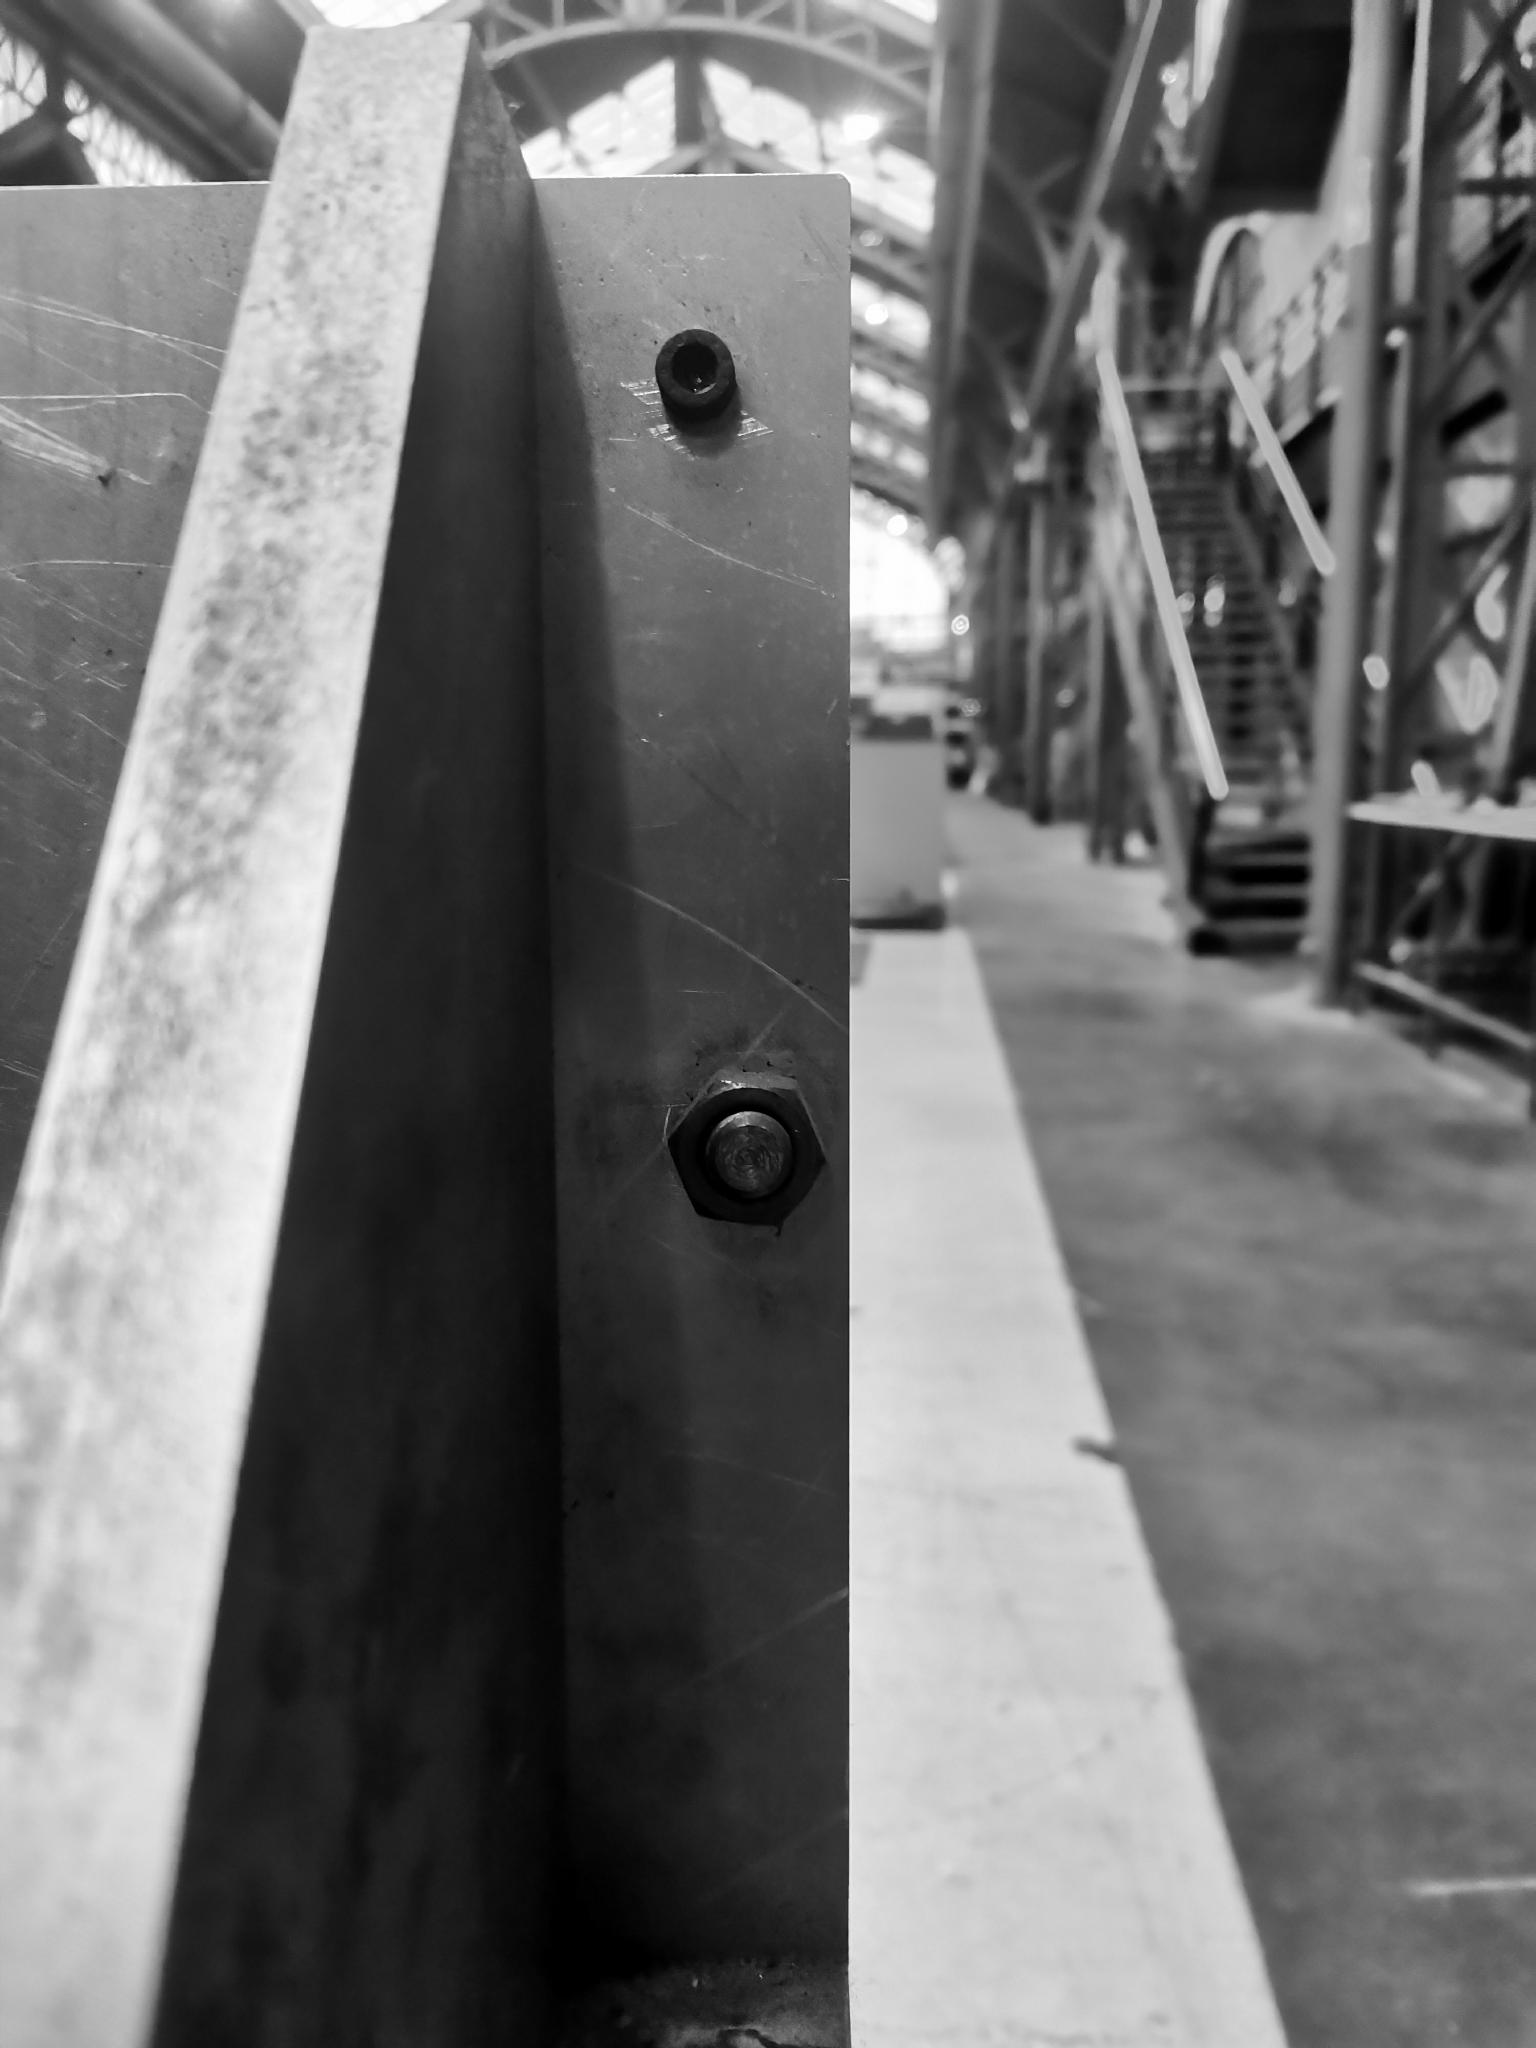screw: (653, 1051, 839, 1242), (639, 316, 747, 421)
